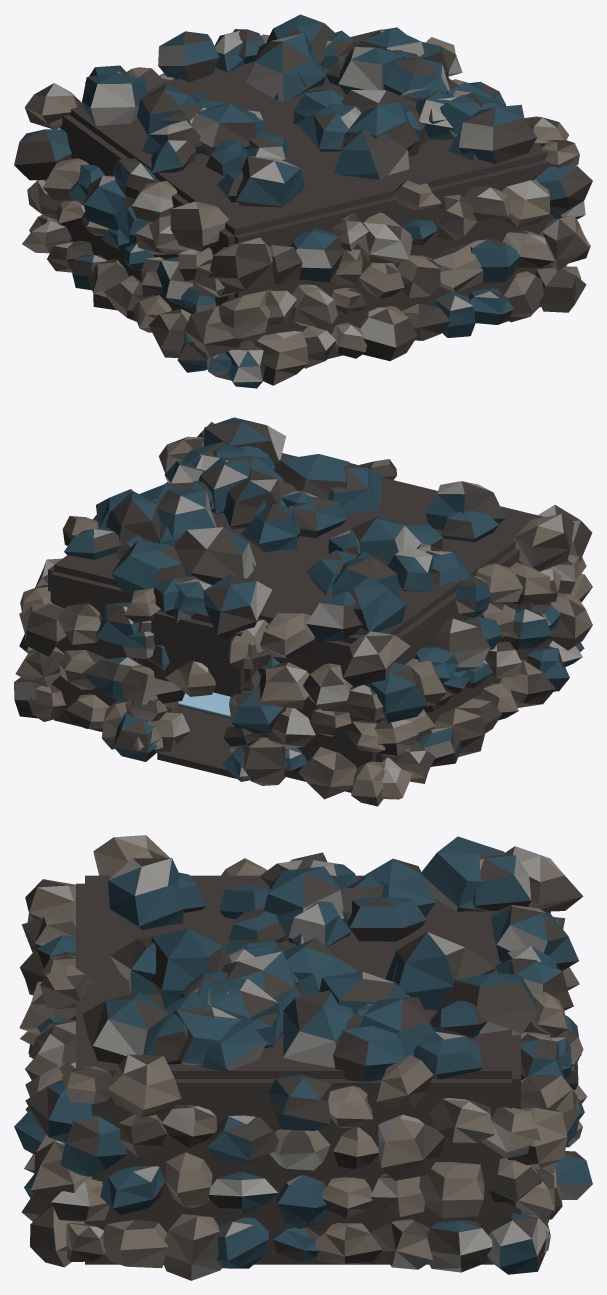
The model's file is Cave_Flooded_Cavern.fbx.
3 renders of one model, top to bottom at view 1: azimuth 30°, elevation 25°; view 2: azimuth 150°, elevation 25°; view 3: azimuth 270°, elevation 25°, orthographic. The views are drawn at different scales.
Visible parts, largest first — view 1: Decor, Ceiling2, Wall3, Wall6; view 2: Decor, Ceiling2, Wall8, Wall2, Wall6, Wall1, Floor2, Floor1, DecorGlass; view 3: Decor, Wall4, Ceiling2, Wall3, Wall2, Floor2.
Boxes of the visible parts, x1,y1,x2,y2 form: Decor: (14, 14, 592, 388); Ceiling2: (70, 29, 548, 235); Wall3: (234, 160, 553, 354); Wall6: (60, 115, 234, 314); Decor: (14, 417, 592, 806); Ceiling2: (54, 453, 544, 643); Wall8: (154, 611, 244, 696); Wall2: (50, 571, 171, 728); Wall6: (376, 548, 552, 762); Wall1: (261, 624, 376, 789); Floor2: (54, 706, 351, 792); Floor1: (157, 744, 236, 778); DecorGlass: (178, 692, 230, 716); Decor: (14, 835, 592, 1280); Wall4: (85, 1079, 511, 1260); Ceiling2: (85, 875, 511, 1078); Wall3: (76, 883, 84, 1068); Wall2: (512, 1034, 520, 1214); Floor2: (85, 1260, 493, 1264).
Bounding box in the file's own units: 67.43 × 32.03 × 65.08.
